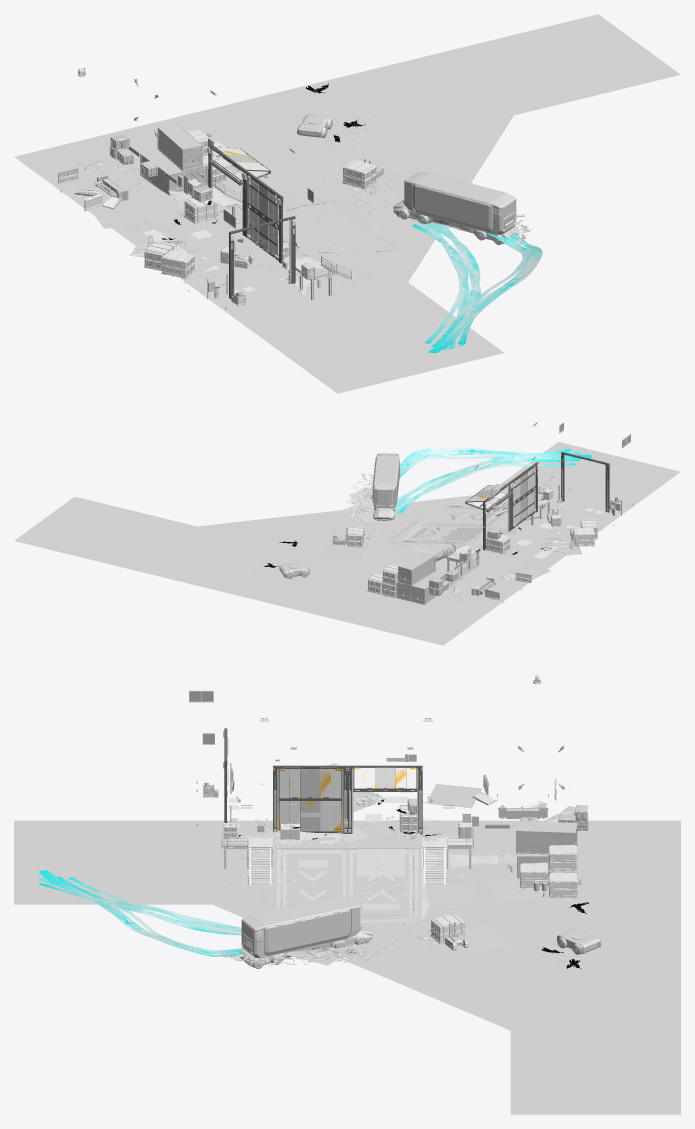
File: cell_173_118.fbx
3 views of the same model, one above another, from view 1: azimuth 30°, elevation 25°; view 2: azimuth 150°, elevation 25°; view 3: azimuth 270°, elevation 25° (orthographic). The views are drawn at different scales.
Visible parts, largest first — view 1: SM_I_RoadFacility_Ground_B_04.mo, SM_H_FutureTech_Vehicle_DriverlessVans_01.mo.026, SpaceCenter_Long3_GenerateRoad_Sand_TireTracks_Narrow_Mesh_., SM_I_RoadFacility_Ground_B_04B.mo, SM_H_Industrial_Container_02.mo.254, SM_H_Building_FutureTech_PrintArea_ExterWall_02B.mo, SM_H_Industrial_Container_02.mo.255, SM_H_Customiz_FoldDoor_01_Farme.mo.022, SM_H_Customiz_FoldDoor_01B.mo.015, SM_H_WalkwaySystem_MetalSupport_17.mo, SM_H_Customiz_FoldDoor_01A.mo.011, SM_DECOR_GrassDebris_Less_01_HD.mo.2130 (+10 smaller); view 2: SM_I_RoadFacility_Ground_B_04.mo, SpaceCenter_Long3_GenerateRoad_Sand_TireTracks_Narrow_Mesh_., SM_I_RoadFacility_Ground_B_04B.mo, SM_H_FutureTech_Vehicle_DriverlessVans_01.mo.026, SM_H_Industrial_Container_02.mo.254, SM_H_Building_FutureTech_PrintArea_ExterWall_02B.mo, SM_H_Industrial_Container_02.mo.255, SM_H_Customiz_FoldDoor_01B.mo.015, SM_H_WalkwaySystem_MetalSupport_17.mo, SM_DECOR_GrassDebris_Less_01_HD.mo.1740, SM_H_Customiz_FoldDoor_01_Farme.mo.022, SM_H_Customiz_FoldDoor_01A.mo.011 (+9 smaller); view 3: SM_I_RoadFacility_Ground_B_04.mo, SM_H_FutureTech_Vehicle_DriverlessVans_01.mo.026, SM_I_RoadFacility_Ground_B_04B.mo, SpaceCenter_Long3_GenerateRoad_Sand_TireTracks_Narrow_Mesh_., SM_H_WalkwaySystem_MetalSupport_17.mo, SM_H_Building_FutureTech_PrintArea_ExterWall_02B.mo, SM_H_Customiz_FoldDoor_01A.mo.011, SM_H_Customiz_FoldDoor_01B.mo.015, SM_H_Customiz_FoldDoor_01A.mo.013, SM_H_Industrial_Container_02.mo.254, SM_DECOR_GrassDebris_Less_01_HD.mo.1764, SM_H_Customiz_FoldDoor_01_Farme.mo.014 (+10 smaller).
Part boxes in pixels (x1,y1,x2,y2): SM_I_RoadFacility_Ground_B_04.mo: [14, 14, 680, 393]; SM_H_FutureTech_Vehicle_DriverlessVans_01.mo.026: [403, 172, 516, 234]; SpaceCenter_Long3_GenerateRoad_Sand_TireTracks_Narrow_Mesh_.: [412, 220, 542, 352]; SM_I_RoadFacility_Ground_B_04B.mo: [89, 80, 417, 222]; SM_H_Industrial_Container_02.mo.254: [157, 123, 202, 171]; SM_H_Building_FutureTech_PrintArea_ExterWall_02B.mo: [240, 203, 401, 255]; SM_H_Industrial_Container_02.mo.255: [140, 149, 188, 195]; SM_H_Customiz_FoldDoor_01_Farme.mo.022: [229, 216, 295, 298]; SM_H_Customiz_FoldDoor_01B.mo.015: [246, 205, 278, 260]; SM_H_WalkwaySystem_MetalSupport_17.mo: [192, 186, 350, 300]; SM_H_Customiz_FoldDoor_01A.mo.011: [247, 175, 278, 227]; SM_DECOR_GrassDebris_Less_01_HD.mo.2130: [91, 204, 147, 228]; SM_I_RoadFacility_Ground_B_04.mo: [14, 442, 680, 645]; SpaceCenter_Long3_GenerateRoad_Sand_TireTracks_Narrow_Mesh_.: [395, 447, 591, 513]; SM_I_RoadFacility_Ground_B_04B.mo: [209, 535, 481, 630]; SM_H_FutureTech_Vehicle_DriverlessVans_01.mo.026: [372, 453, 399, 508]; SM_H_Industrial_Container_02.mo.254: [398, 551, 435, 585]; SM_H_Building_FutureTech_PrintArea_ExterWall_02B.mo: [396, 505, 507, 544]; SM_H_Industrial_Container_02.mo.255: [410, 571, 445, 604]; SM_H_Customiz_FoldDoor_01B.mo.015: [513, 488, 536, 528]; SM_H_WalkwaySystem_MetalSupport_17.mo: [435, 500, 549, 575]; SM_DECOR_GrassDebris_Less_01_HD.mo.1740: [320, 540, 367, 559]; SM_H_Customiz_FoldDoor_01_Farme.mo.022: [561, 452, 610, 512]; SM_H_Customiz_FoldDoor_01A.mo.011: [513, 465, 535, 503]; SM_I_RoadFacility_Ground_B_04.mo: [14, 820, 680, 1114]; SM_H_FutureTech_Vehicle_DriverlessVans_01.mo.026: [241, 896, 361, 958]; SM_I_RoadFacility_Ground_B_04B.mo: [426, 856, 674, 983]; SpaceCenter_Long3_GenerateRoad_Sand_TireTracks_Narrow_Mesh_.: [39, 870, 245, 956]; SM_H_WalkwaySystem_MetalSupport_17.mo: [223, 836, 471, 885]; SM_H_Building_FutureTech_PrintArea_ExterWall_02B.mo: [277, 849, 418, 917]; SM_H_Customiz_FoldDoor_01A.mo.011: [278, 768, 342, 799]; SM_H_Customiz_FoldDoor_01B.mo.015: [278, 799, 342, 833]; SM_H_Customiz_FoldDoor_01A.mo.013: [353, 767, 417, 790]; SM_H_Industrial_Container_02.mo.254: [516, 821, 577, 854]; SM_DECOR_GrassDebris_Less_01_HD.mo.1764: [356, 849, 405, 876]; SM_H_Customiz_FoldDoor_01_Farme.mo.014: [347, 765, 422, 834].
Bounding box in the file's own units: 76.39 × 17.45 × 68.76.
